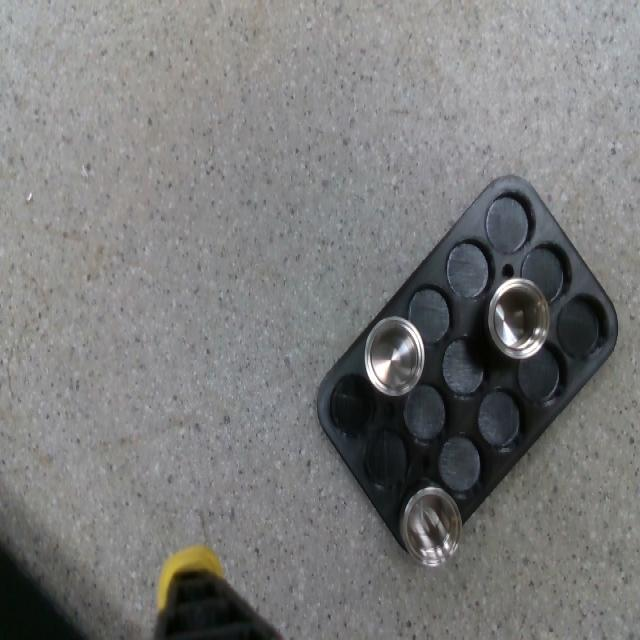sensor: (486, 278, 550, 358), (364, 317, 425, 397), (401, 486, 461, 564)
